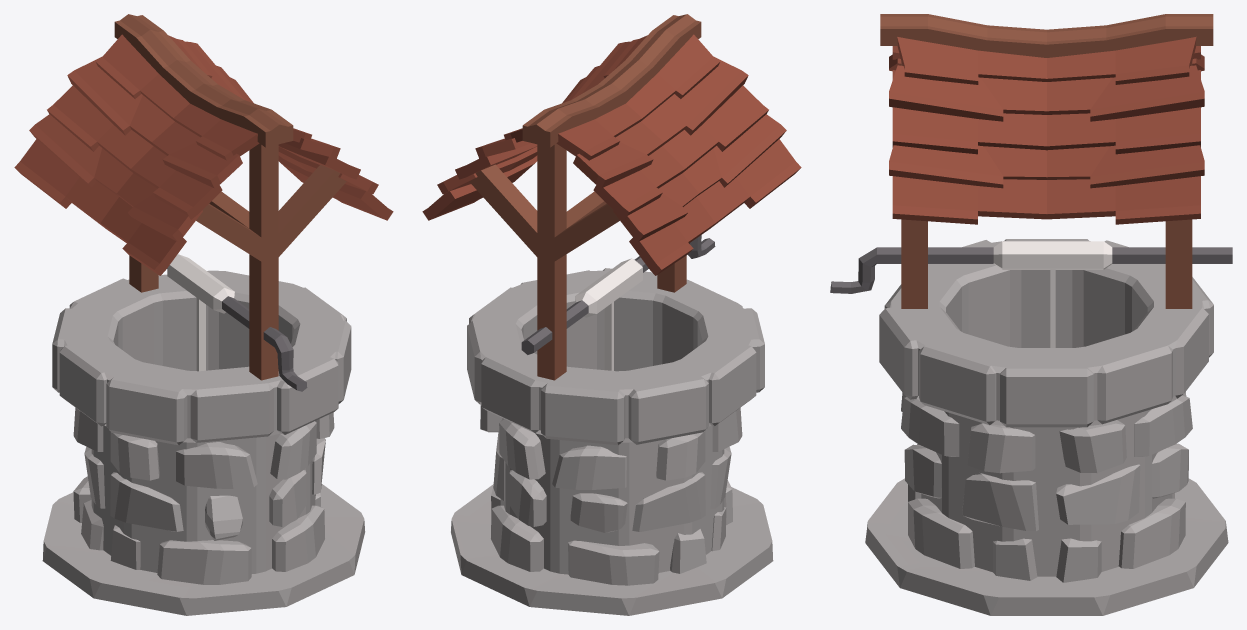
Rendered from well.lod.glb.
3 renders of one model, left to right at view 1: azimuth 30°, elevation 25°; view 2: azimuth 150°, elevation 25°; view 3: azimuth 270°, elevation 25°, orthographic. The views are drawn at different scales.
Visible parts, largest first — view 1: Well; view 2: Well; view 3: Well.
Boxes of the visible parts, x1=… form: Well: x1=14, y1=14, x2=393, y2=615; Well: x1=422, y1=14, x2=801, y2=615; Well: x1=830, y1=14, x2=1232, y2=615.
Bounding box in the file's own units: 1.28 × 2.15 × 1.49.
1 material, 1 textured.
